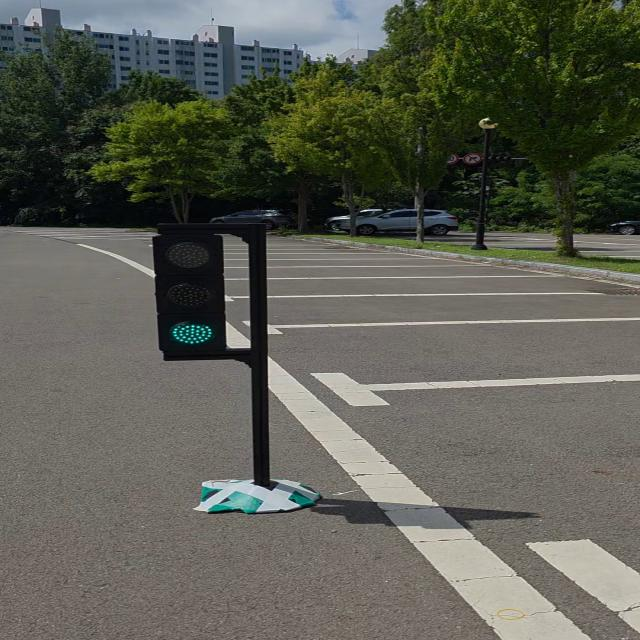green: (158, 228, 230, 361)
